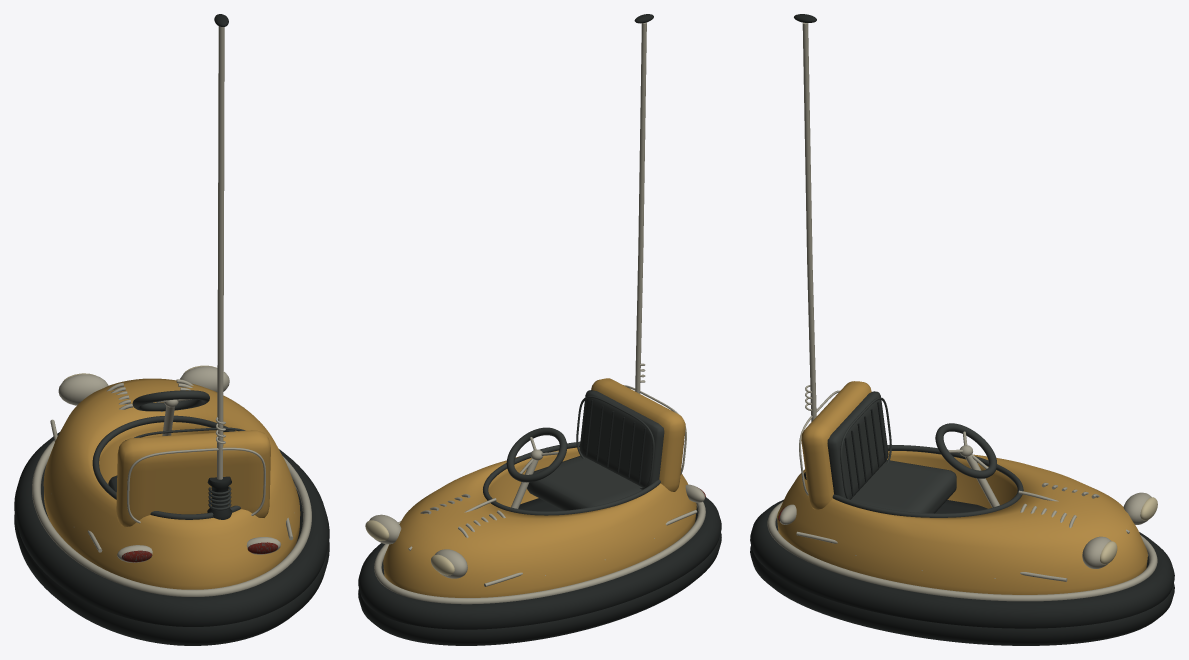
Rendered from SM_BumperCar_edb548fa5e.fbx.
The picture shows the model from 3 angles, left to right: view 1: azimuth 30°, elevation 25°; view 2: azimuth 150°, elevation 25°; view 3: azimuth 270°, elevation 25°; orthographic projection. The views are drawn at different scales.
Visible parts, largest first — view 1: SM_BumperCar_edb548fa5e; view 2: SM_BumperCar_edb548fa5e; view 3: SM_BumperCar_edb548fa5e.
Boxes of the visible parts, x1,y1,x2,y2 form: SM_BumperCar_edb548fa5e: (14,14,329,645); SM_BumperCar_edb548fa5e: (358,14,721,645); SM_BumperCar_edb548fa5e: (750,14,1174,645).
Size of what is drawn, in the model's own units: 189 by 259 by 373.
6 materials, 1 textured.
